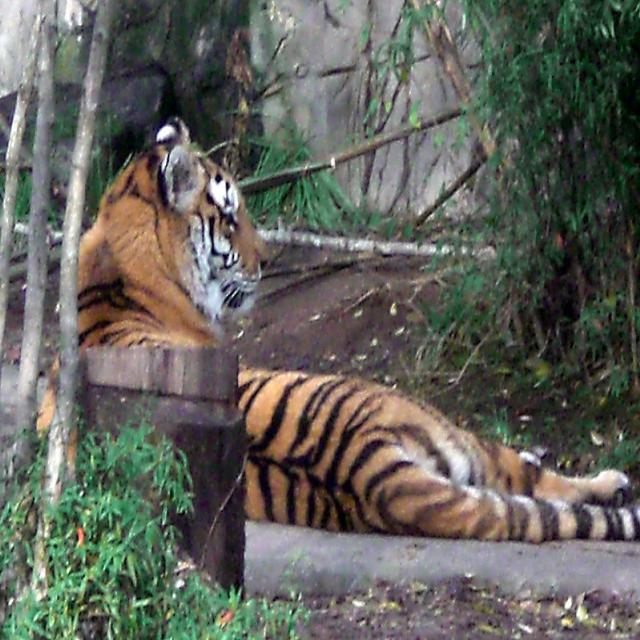Tiger: (34, 111, 638, 544)
